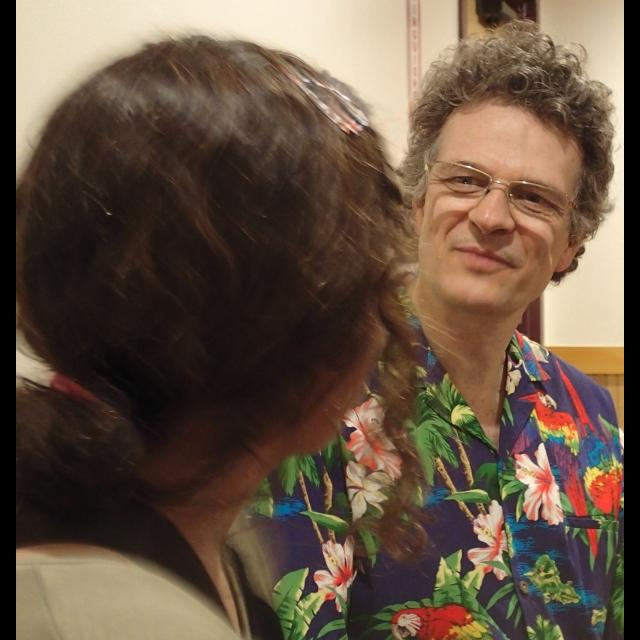Flower: (344, 398, 406, 482), (310, 542, 372, 620), (513, 442, 559, 526), (468, 500, 509, 580), (344, 460, 394, 520)
